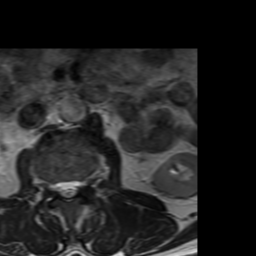CCS_normal: (64, 171, 72, 207)
LFS_stenosis: (79, 171, 88, 195)
LLS_normal: (72, 172, 79, 200)
RFS_normal: (48, 173, 56, 196)
RLS_normal: (56, 173, 64, 200)
